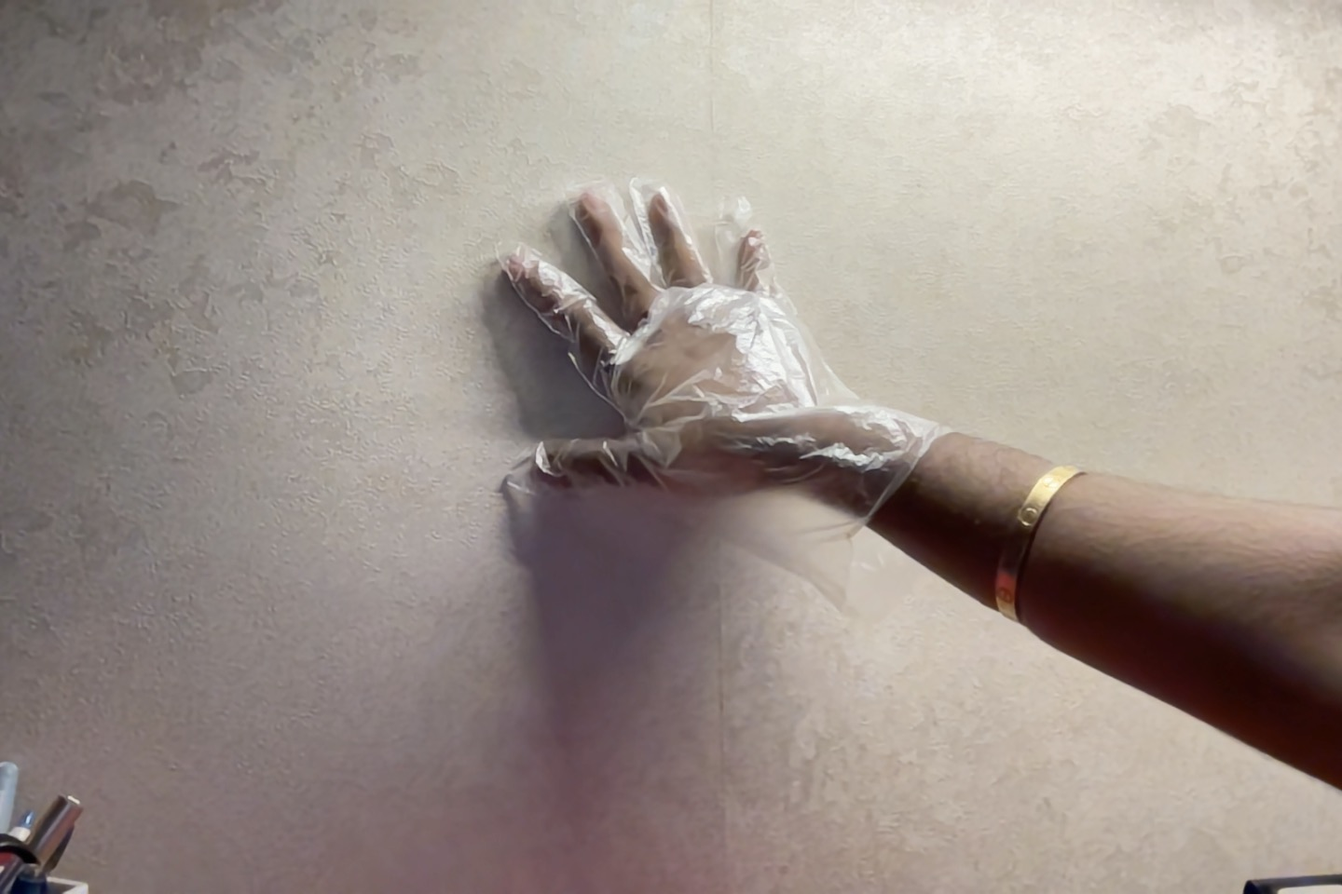gloves: (449, 172, 957, 555)
